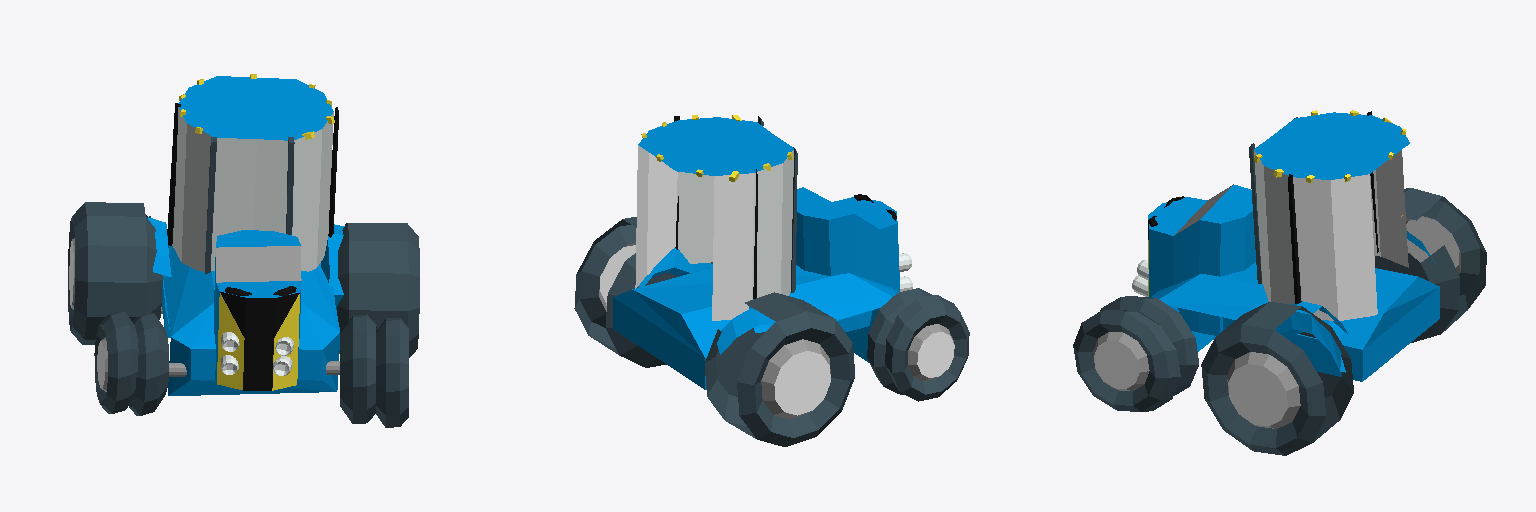
File: tractor.obj
3 renders of one model, left to right at view 1: azimuth 30°, elevation 25°; view 2: azimuth 150°, elevation 25°; view 3: azimuth 270°, elevation 25°, orthographic.
Visible parts, largest first — view 1: model:mesh[number redacted]; view 2: model:mesh[number redacted]; view 3: model:mesh[number redacted].
Boxes of the visible parts, <box> form: model:mesh[number redacted]: <box>68,74,419,427</box>; model:mesh[number redacted]: <box>574,115,969,446</box>; model:mesh[number redacted]: <box>1073,110,1486,455</box>.
Size of the model in its own units: 0.4876 by 0.3467 by 0.502.